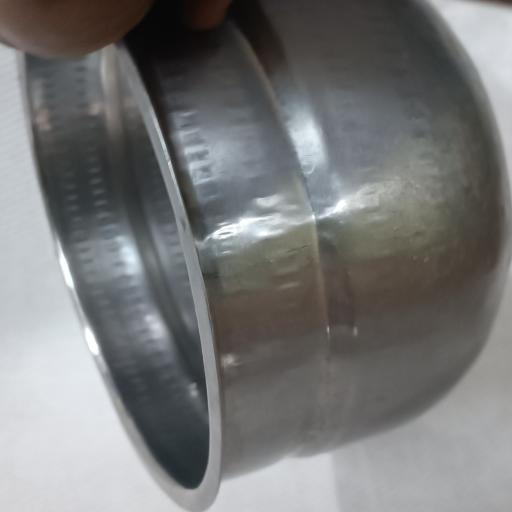vessel: (21, 0, 510, 510)
